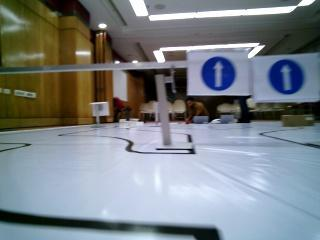straight: (253, 55, 318, 101), (191, 51, 252, 98)
